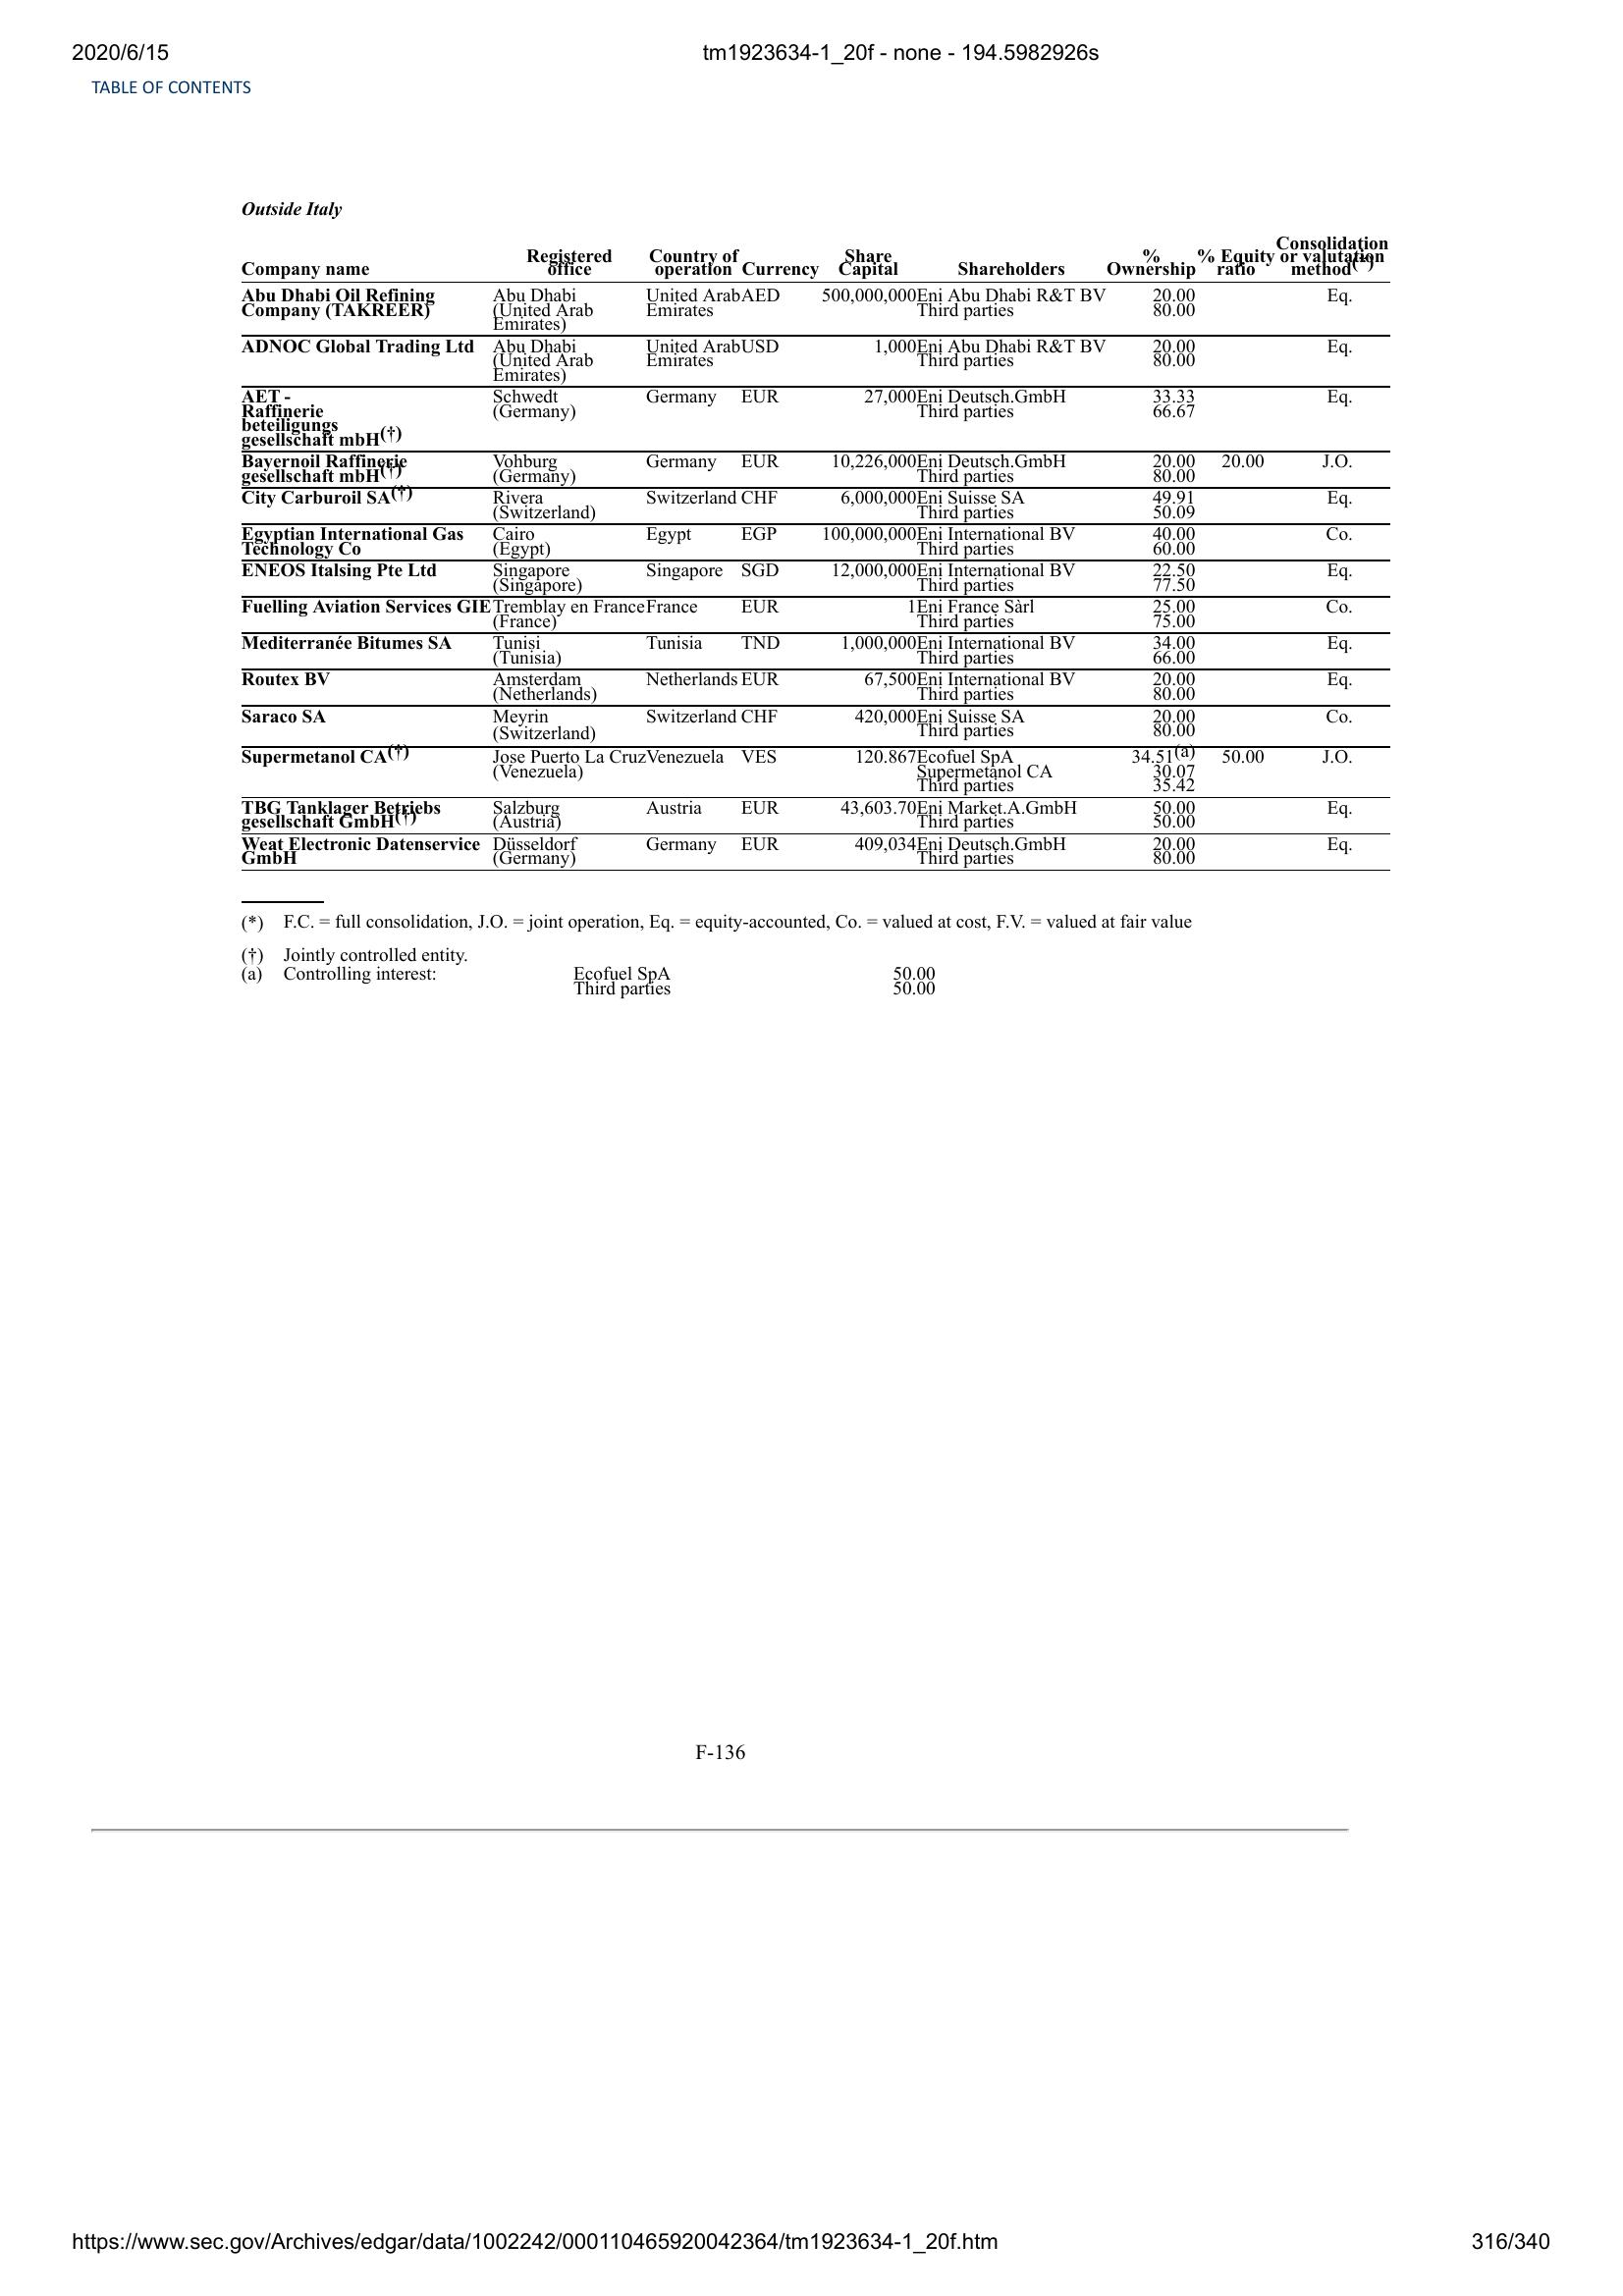table: (235, 230, 1395, 872)
